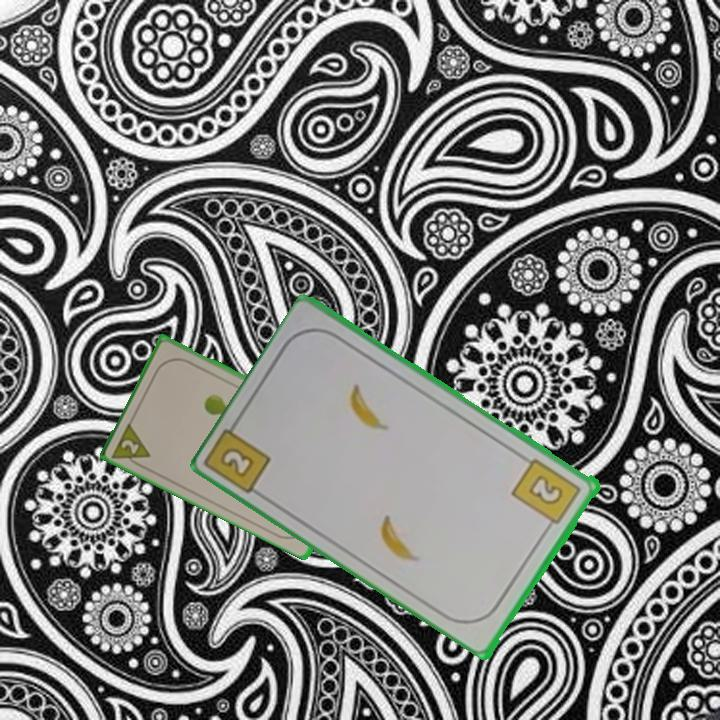2b: (509, 454, 585, 532), (217, 443, 258, 481)
2p: (109, 418, 154, 472)
